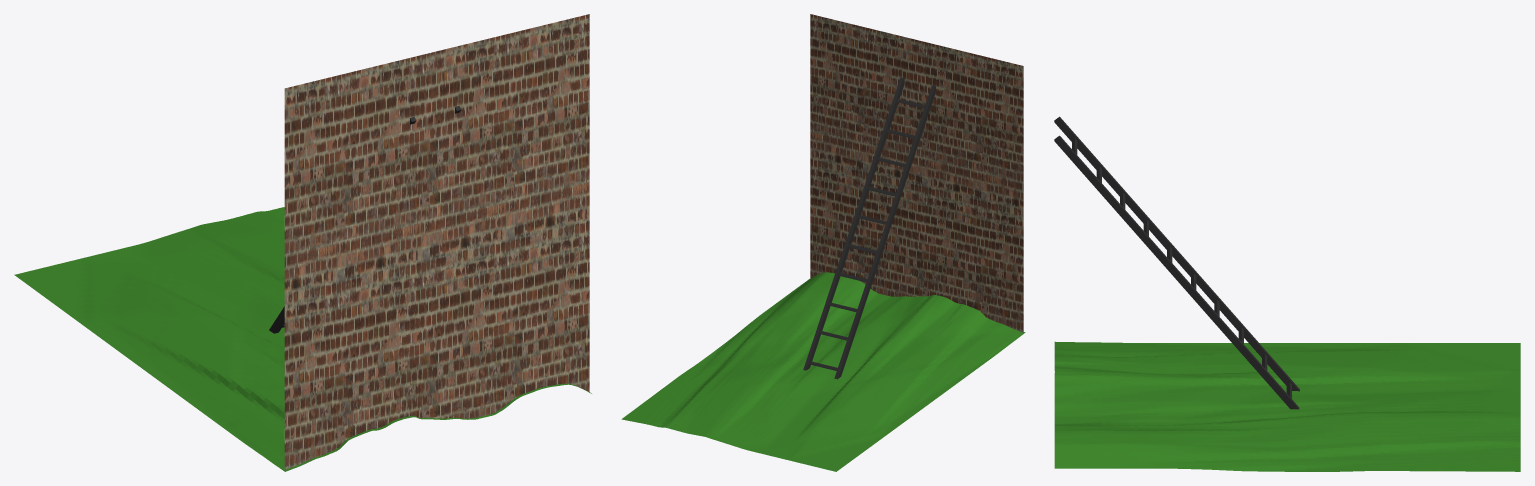
The model's file is LADDERnew.glb.
3 renders of one model, left to right at view 1: azimuth 30°, elevation 25°; view 2: azimuth 150°, elevation 25°; view 3: azimuth 270°, elevation 25°, orthographic. The views are drawn at different scales.
Visible parts, largest first — view 1: Plane.001, Plane; view 2: Plane.001, Plane, Ladders.018; view 3: Plane, Ladders.018.
Part boxes in pixels (x1=…): Plane.001: x1=284, y1=14, x2=589, y2=469; Plane: x1=14, y1=207, x2=591, y2=471; Plane.001: x1=810, y1=14, x2=1023, y2=332; Plane: x1=621, y1=272, x2=1025, y2=471; Ladders.018: x1=803, y1=77, x2=935, y2=379; Plane: x1=1054, y1=341, x2=1520, y2=471; Ladders.018: x1=1054, y1=116, x2=1299, y2=409.
Bounding box in the file's own units: 13.54 × 16.54 × 20.66.
3 materials, 1 textured.
